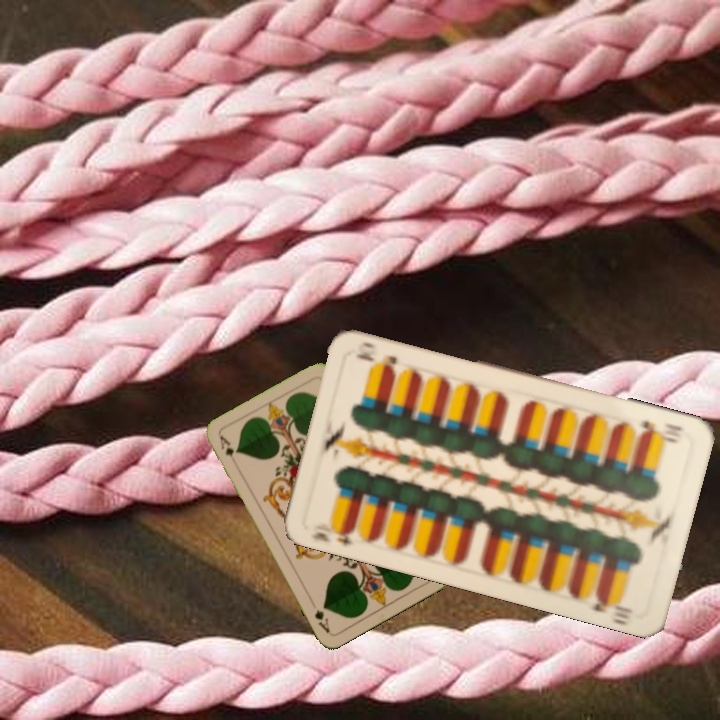E10: (306, 517, 357, 548), (634, 416, 685, 446)
GA: (216, 432, 241, 469)
